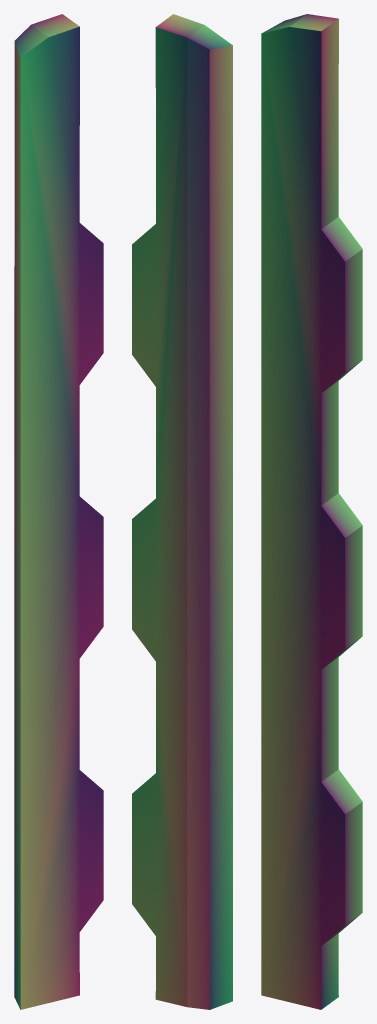
Rendered from Eff_Aokaku_Wpn_R_Side_Mod.fbx.
3 views of the same model, side by side, from view 1: azimuth 30°, elevation 25°; view 2: azimuth 150°, elevation 25°; view 3: azimuth 330°, elevation 25° (orthographic).
Parts seen in each view (by area): view 1: Wpn_R_Side_Mod; view 2: Wpn_R_Side_Mod; view 3: Wpn_R_Side_Mod.
Boxes of the visible parts, x1,y1,x2,y2 form: Wpn_R_Side_Mod: [14, 14, 103, 1009]; Wpn_R_Side_Mod: [132, 14, 232, 1009]; Wpn_R_Side_Mod: [261, 14, 362, 1009].
Size of the model in its own units: 0.0665 by 0.7417 by 0.0243.
